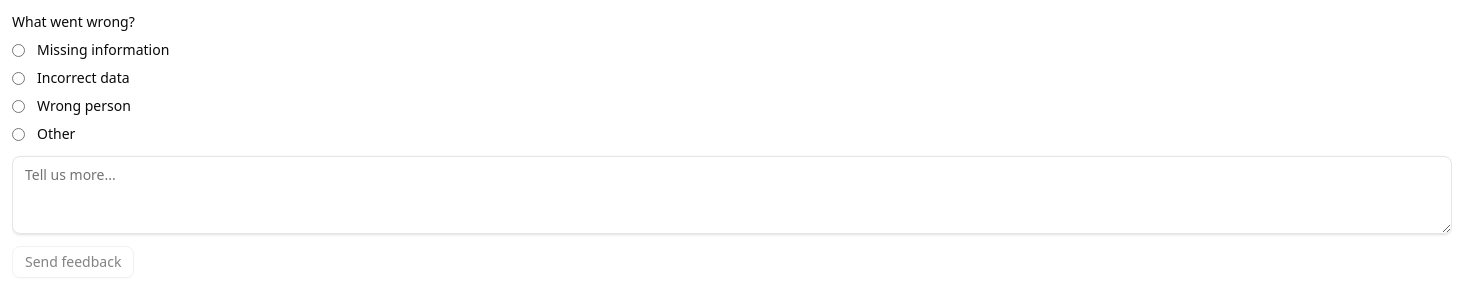
Scenario: FeedbackForm › enables submit button after selecting a category
This screenshot has width=1464, height=295.
Click the radio button labelled "Missing information".
click(18, 50)  # box top-left (12, 44), bottom-right (25, 56)
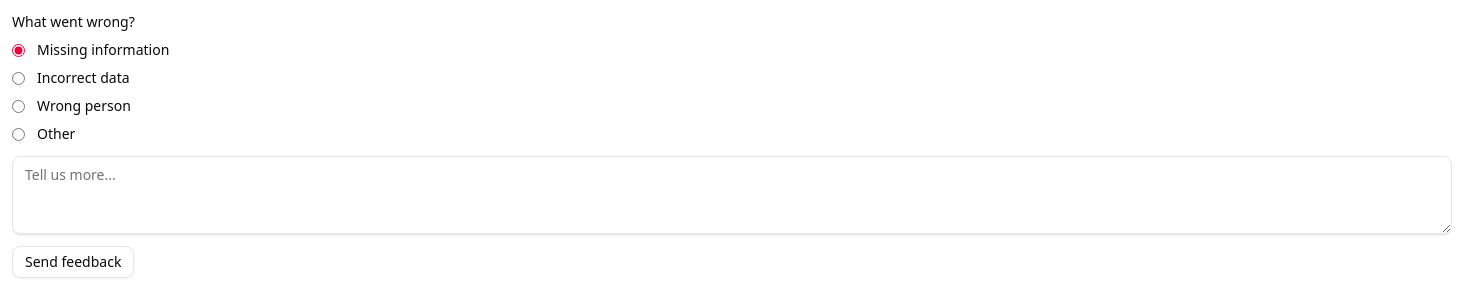
Expected: the button "Send feedback" is enabled, top-left (12, 246), bottom-right (134, 278)
